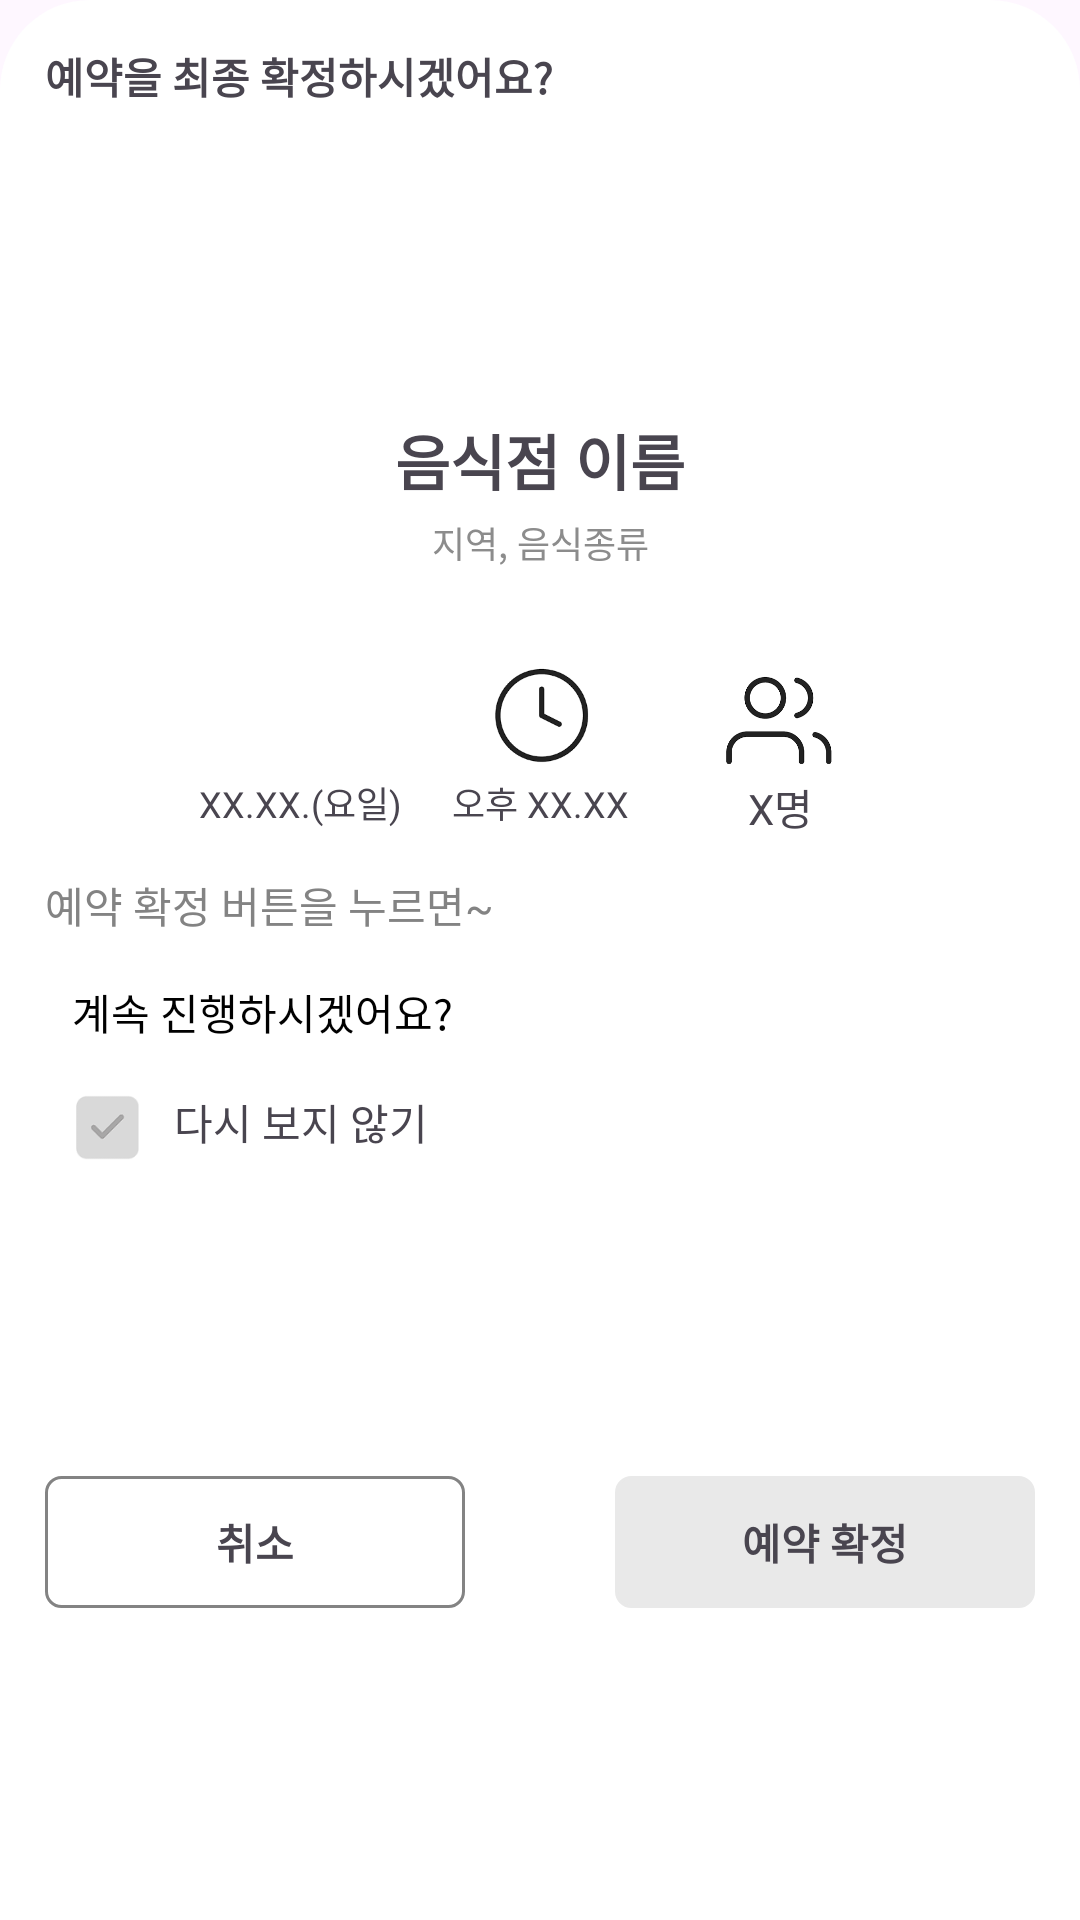

Named icons in this screenshot (1080px x 1920px) and their centers, (x=x, y=y):
checkbox: (x=107, y=1127)
clock: (x=541, y=715)
reservation people: (x=779, y=720)
